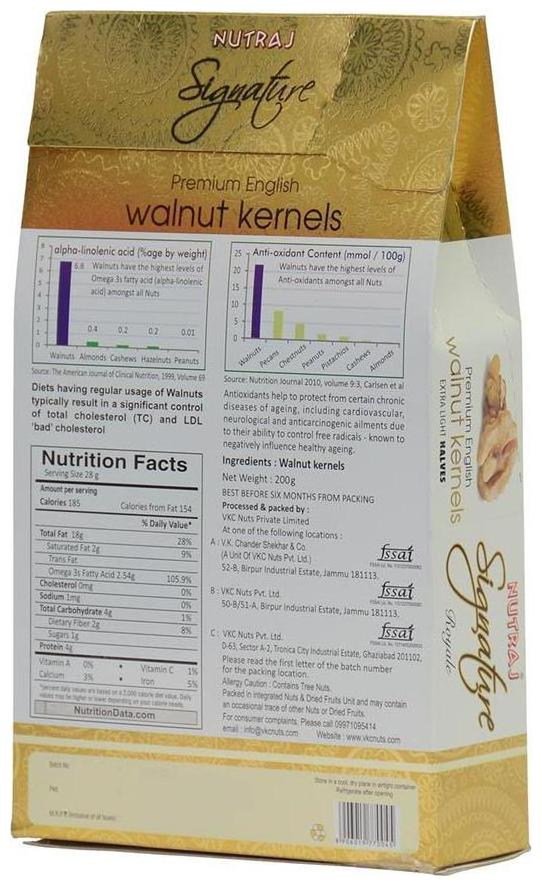fssai: (377, 622, 415, 641), (378, 580, 415, 599), (378, 543, 414, 561)
